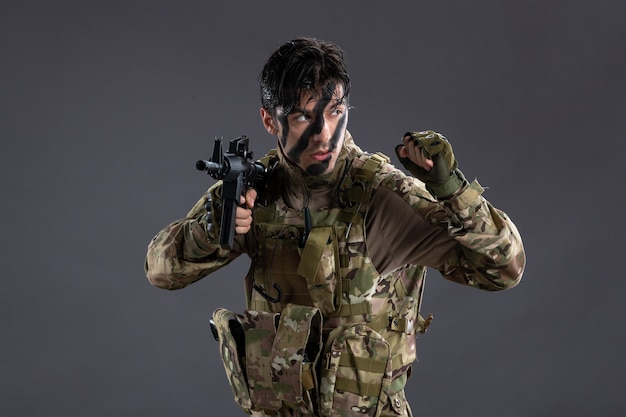gun: (195, 133, 271, 253)
